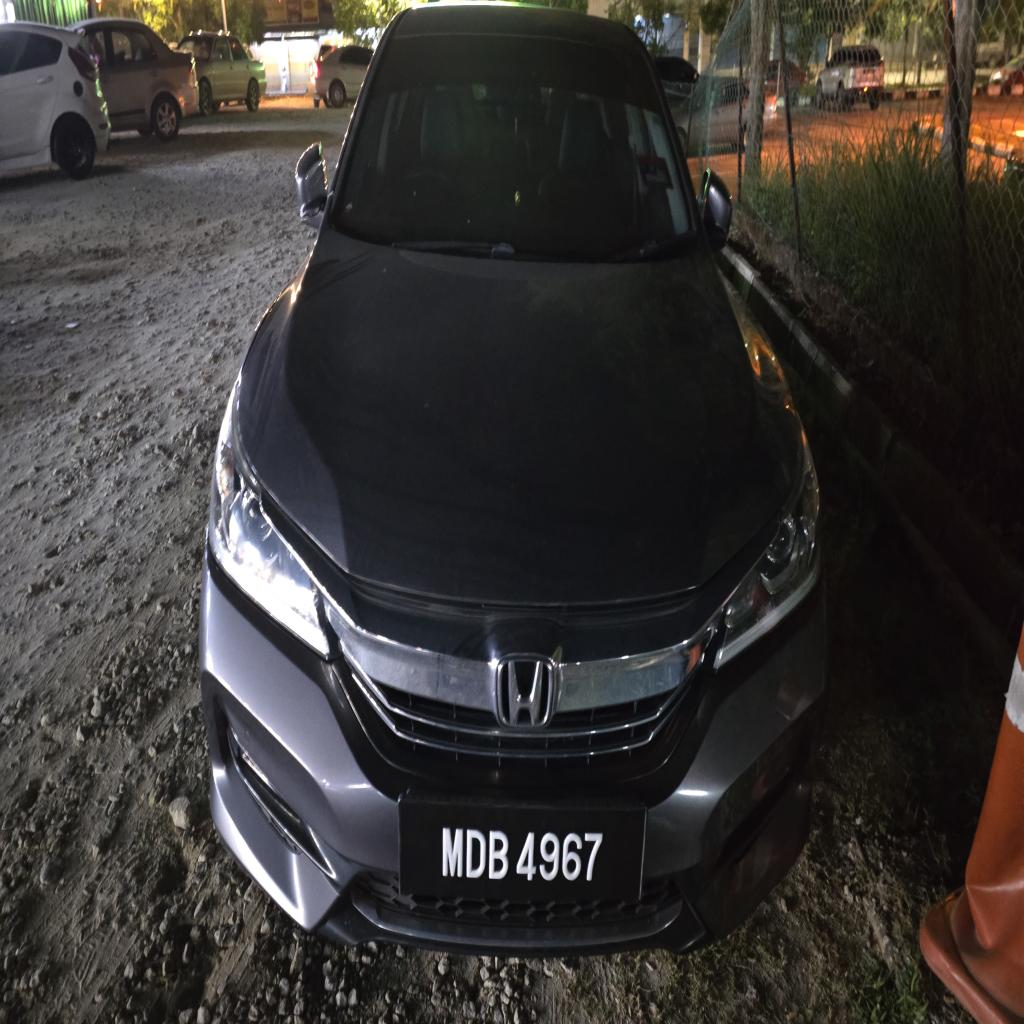car: (199, 3, 826, 954)
car plate: (399, 794, 646, 901)
